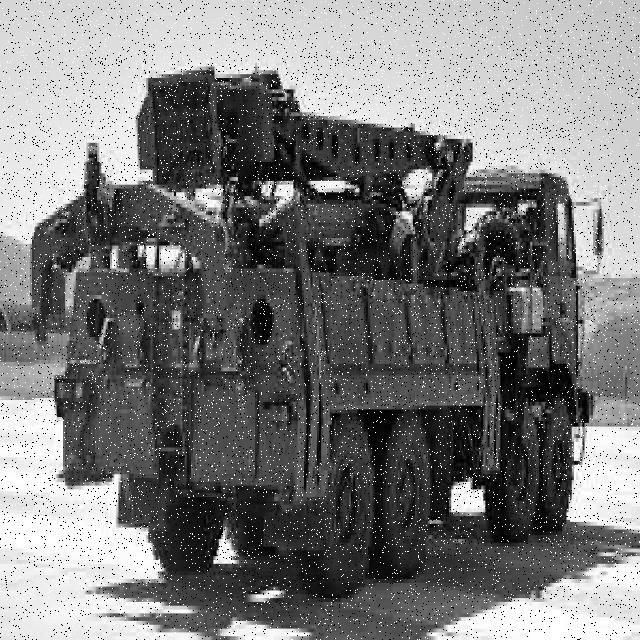MIL_MBT: (35, 46, 570, 554)
